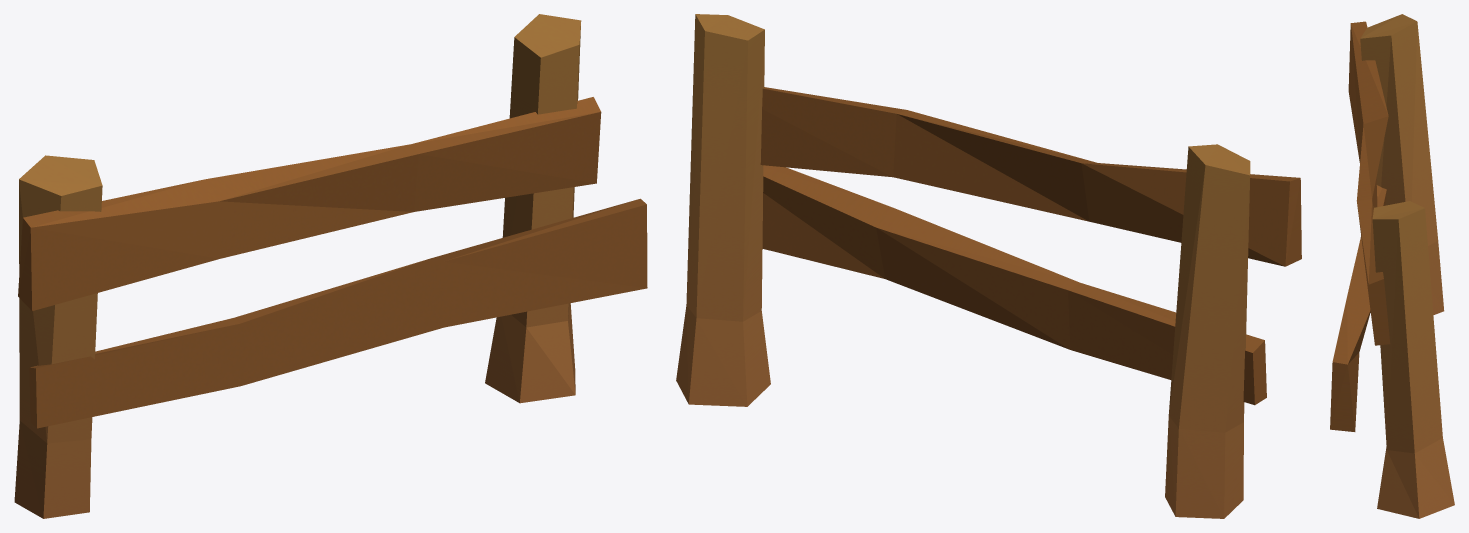
Rendered from Fence 2.obj.
The picture shows the model from 3 angles, left to right: view 1: azimuth 30°, elevation 25°; view 2: azimuth 150°, elevation 25°; view 3: azimuth 270°, elevation 25°; orthographic projection. The views are drawn at different scales.
Parts seen in each view (by area): view 1: LowPolyFence_02_Mesh.001; view 2: LowPolyFence_02_Mesh.001; view 3: LowPolyFence_02_Mesh.001.
Boxes of the visible parts, bbox=[...] form: LowPolyFence_02_Mesh.001: bbox=[14, 14, 647, 518]; LowPolyFence_02_Mesh.001: bbox=[676, 14, 1301, 518]; LowPolyFence_02_Mesh.001: bbox=[1330, 14, 1454, 518].
Bounding box in the file's own units: 2.19 × 1.25 × 0.4745.
